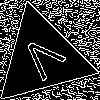V: (17, 32, 74, 89)
